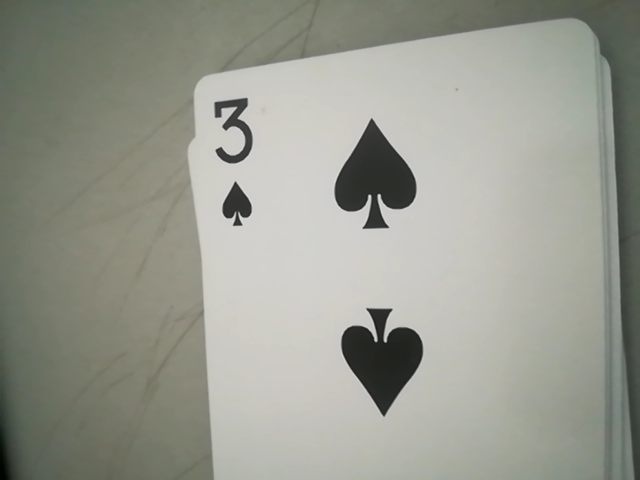ht 3: (193, 91, 282, 234)
